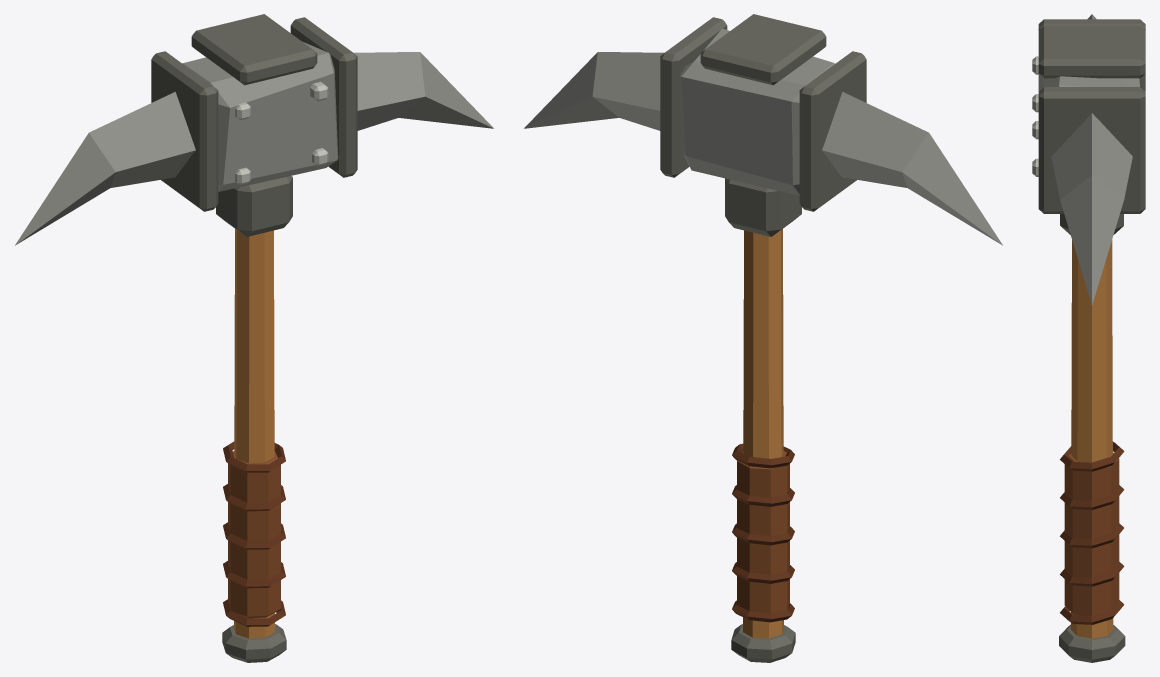
Rendered from StoneHeavyPickaxe.fbx.
The picture shows the model from 3 angles, left to right: view 1: azimuth 30°, elevation 25°; view 2: azimuth 150°, elevation 25°; view 3: azimuth 270°, elevation 25°; orthographic projection.
Visible parts, largest first — view 1: StoneHeavyPickaxe; view 2: StoneHeavyPickaxe; view 3: StoneHeavyPickaxe.
Boxes of the visible parts, x1,y1,x2,y2 form: StoneHeavyPickaxe: (15, 14, 493, 662); StoneHeavyPickaxe: (524, 14, 1002, 662); StoneHeavyPickaxe: (1032, 14, 1145, 662).
Size of the model in its own units: 3.1 by 3.78 by 0.635.
Materials: 1 (1 with a texture image).
